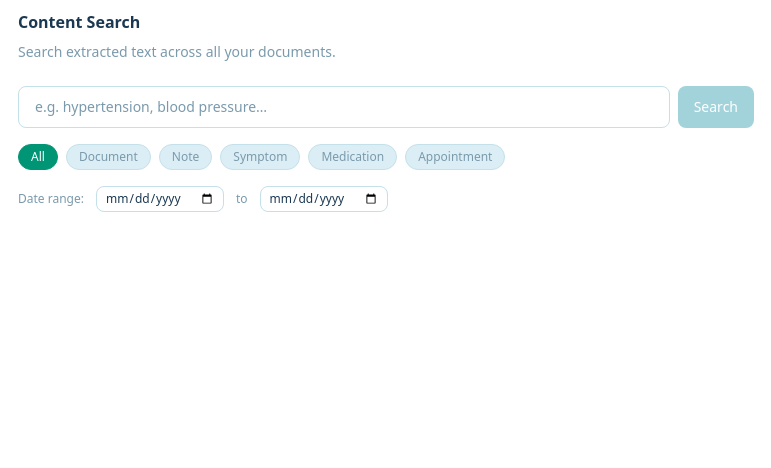
Test: ContentSearchPage › shows entity type badge on result card
Type "hypertension" into the search field with test id "content-search-input" at (344, 107), box [18, 86, 670, 128]
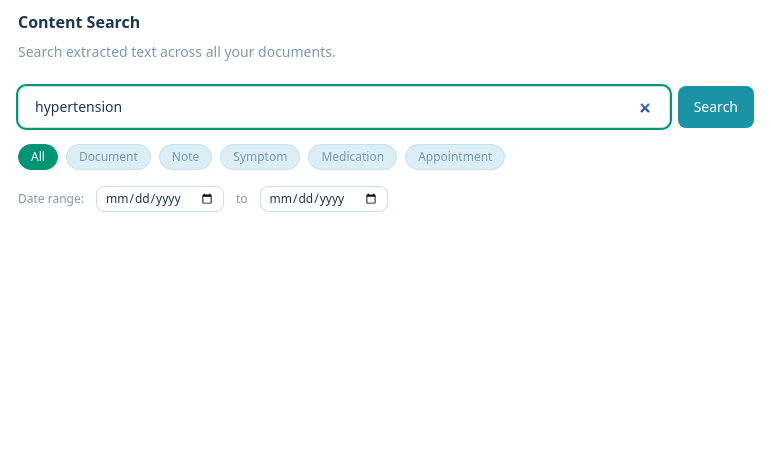
Press Enter
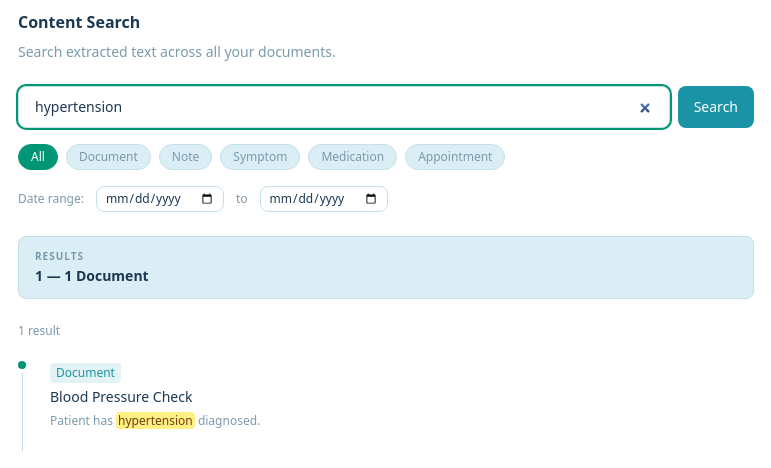
Now the text "Blood Pressure Check" is shown, box [50, 387, 192, 406]
